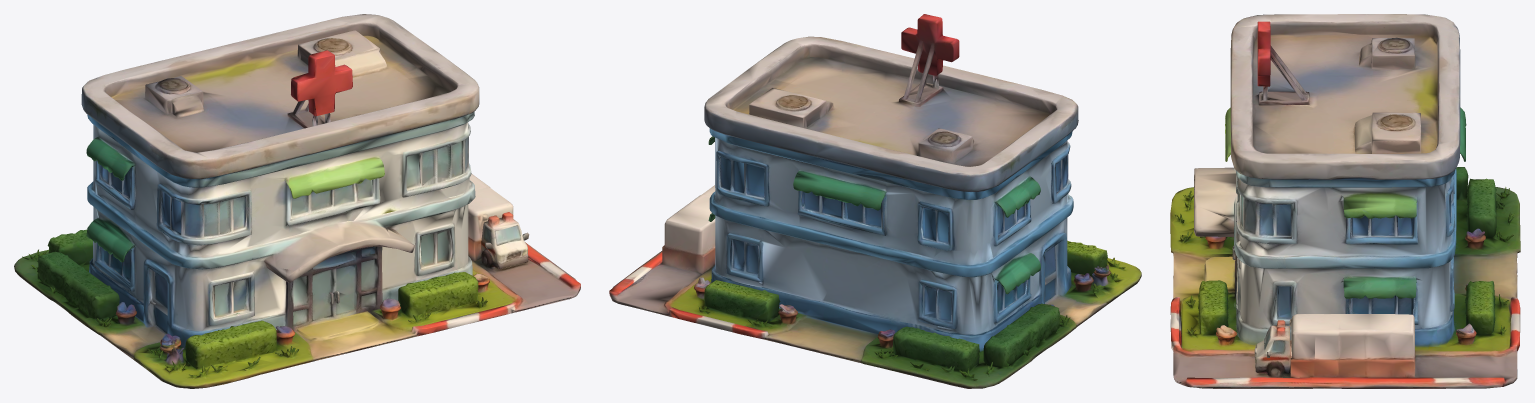
File: hospital.glb
3 views of the same model, side by side, from view 1: azimuth 30°, elevation 25°; view 2: azimuth 150°, elevation 25°; view 3: azimuth 270°, elevation 25° (orthographic). The views are drawn at different scales.
Parts seen in each view (by area): view 1: tripo_node_2be8128a-494f-405e-ac91-535132d14df8; view 2: tripo_node_2be8128a-494f-405e-ac91-535132d14df8; view 3: tripo_node_2be8128a-494f-405e-ac91-535132d14df8.
Boxes of the visible parts, x1,y1,x2,y2 form: tripo_node_2be8128a-494f-405e-ac91-535132d14df8: (14,14,580,388); tripo_node_2be8128a-494f-405e-ac91-535132d14df8: (609,14,1141,388); tripo_node_2be8128a-494f-405e-ac91-535132d14df8: (1170,14,1520,388).
Bounding box in the file's own units: 0.9992 × 0.6001 × 0.744.
Materials: 1 (1 with a texture image).
